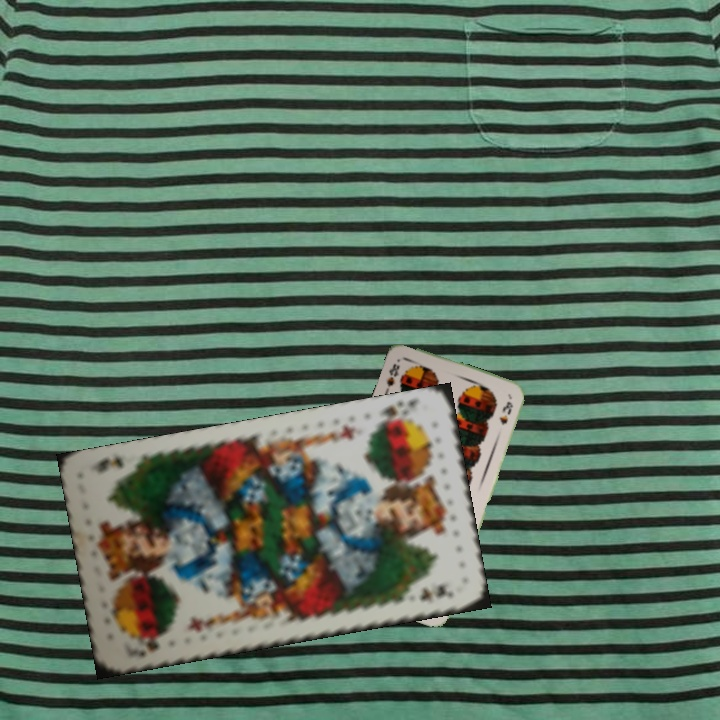S8: (382, 359, 402, 395)
SK: (372, 398, 405, 430), (136, 630, 170, 660)
